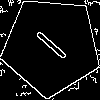I: (26, 21, 69, 63)
